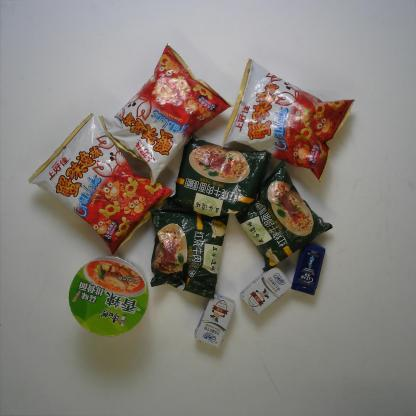Instant Noodles: (232, 159, 335, 274), (165, 132, 272, 220), (148, 203, 230, 300), (68, 254, 150, 338)
Milk: (239, 265, 293, 319), (194, 292, 236, 348)
Personal Hygiene: (290, 242, 326, 297)
Puffed Food: (27, 112, 175, 256), (96, 40, 233, 186), (221, 56, 357, 183)
